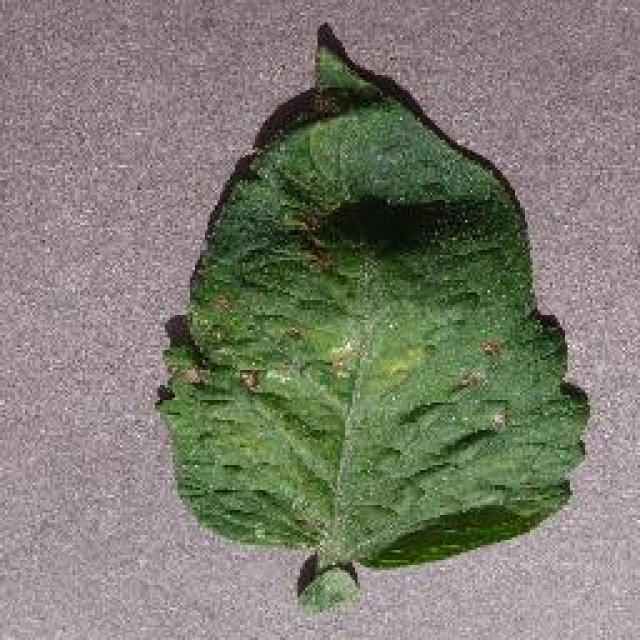Tom_Target_Spot: (168, 295, 370, 403), (414, 302, 531, 443), (269, 178, 355, 284)
